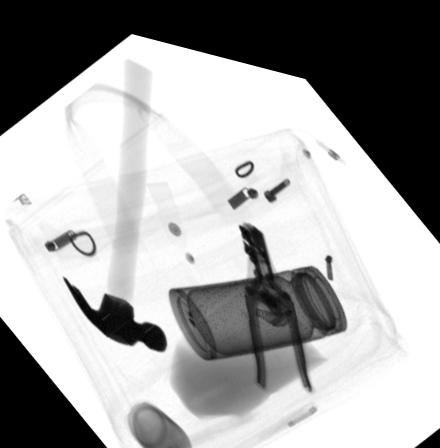Hammer: (58, 50, 166, 344)
Pliers: (236, 207, 315, 378)
